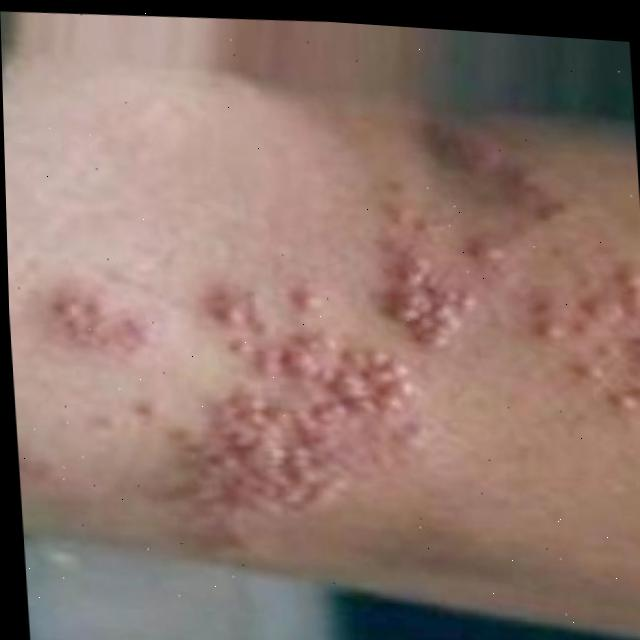Shingles: (20, 221, 475, 562), (513, 244, 640, 439), (421, 120, 556, 215)
